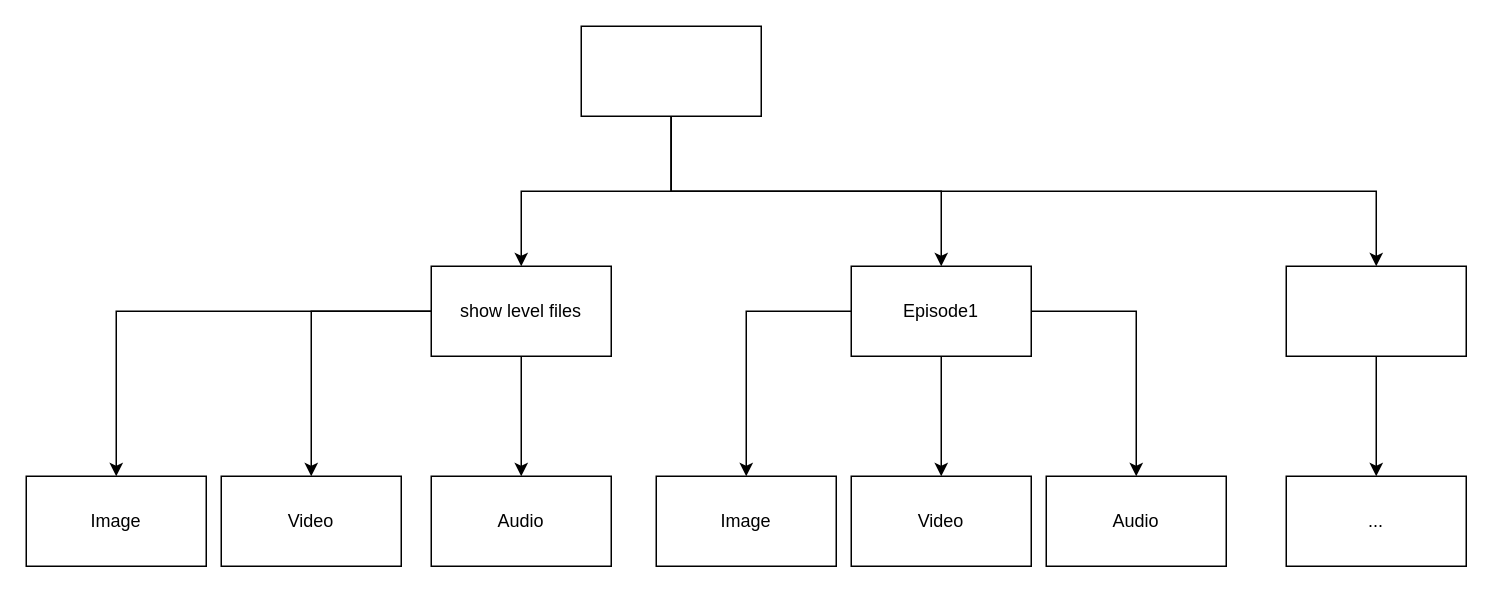
The diagram is 1493 pixels wide and 593 high, and some of its shapes have lost their labels. Here are the shapes that lost their labels. From the top down, the centre of each, then its label:
[670,70]: show 1
[1375,310]: Episode2
